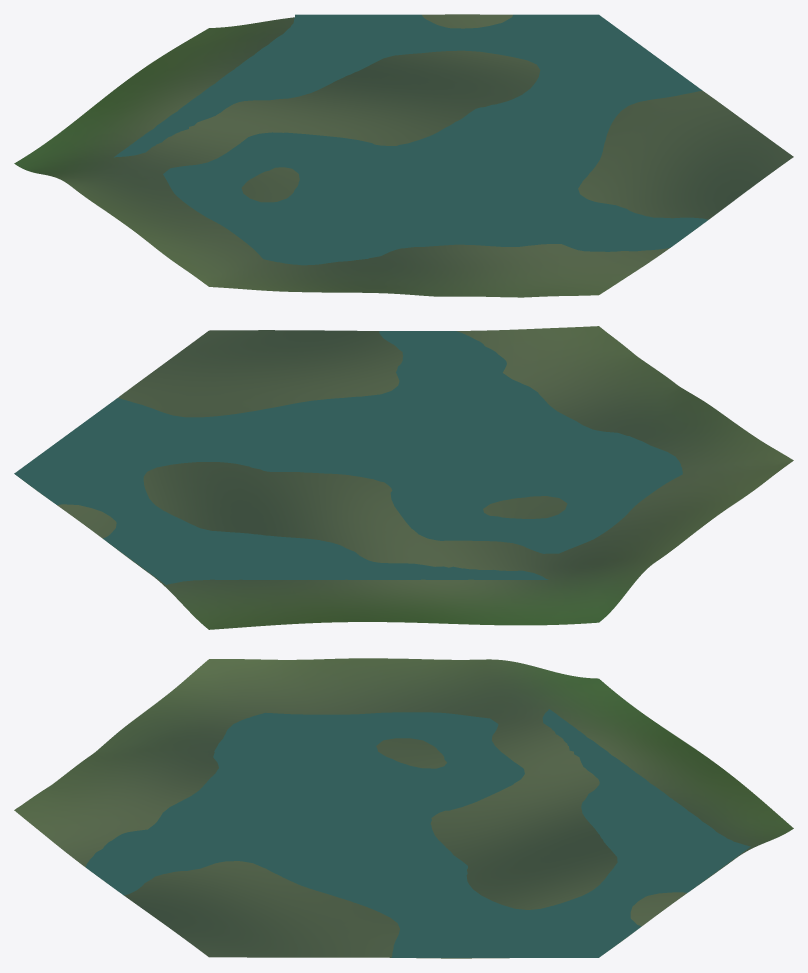
3 renders of one model, top to bottom at view 1: azimuth 30°, elevation 25°; view 2: azimuth 150°, elevation 25°; view 3: azimuth 270°, elevation 25°, orthographic.
Parts seen in each view (by area): view 1: PT_+2_11, Lâmina estática PT_+2_11; view 2: PT_+2_11, Lâmina estática PT_+2_11; view 3: PT_+2_11, Lâmina estática PT_+2_11.
Boxes of the visible parts, <box> form: PT_+2_11: <box>14,14,793,297</box>; Lâmina estática PT_+2_11: <box>114,14,708,265</box>; PT_+2_11: <box>23,326,793,629</box>; Lâmina estática PT_+2_11: <box>14,331,682,584</box>; PT_+2_11: <box>14,658,793,958</box>; Lâmina estática PT_+2_11: <box>85,709,750,957</box>.
Size of the model in its own units: 4330 by 194 by 5000.
